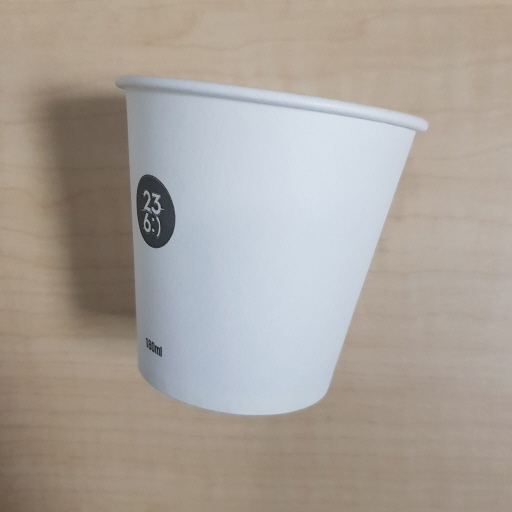Paper_1: (110, 74, 431, 419)
